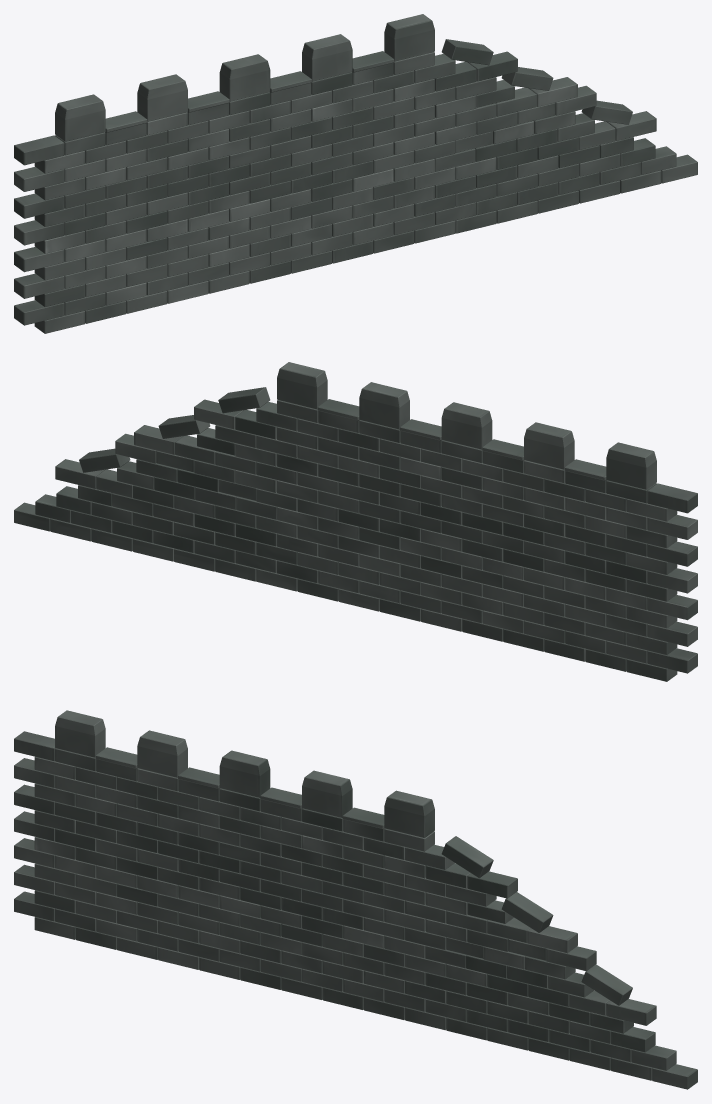
Rendered from Medieval Final Wall_2.fbx.
The picture shows the model from 3 angles, top to bottom: view 1: azimuth 30°, elevation 25°; view 2: azimuth 150°, elevation 25°; view 3: azimuth 330°, elevation 25°; orthographic projection.
Visible parts, largest first — view 1: Medieval end wall-3; view 2: Medieval end wall-3; view 3: Medieval end wall-3.
Part boxes in pixels (<box>): Medieval end wall-3: <box>14,14,697,333</box>; Medieval end wall-3: <box>14,362,697,681</box>; Medieval end wall-3: <box>14,710,697,1089</box>.
Size of the model in its own units: 1529 by 474 by 44.55.
1 material, 1 textured.
